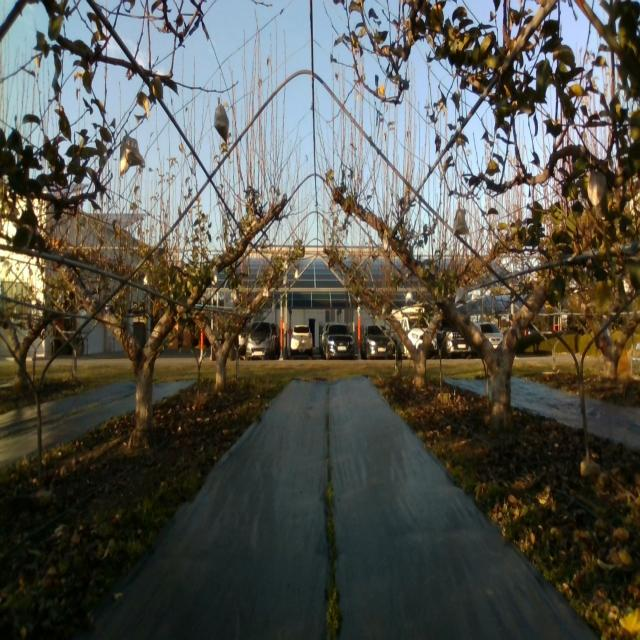pearbags: (588, 167, 608, 220), (120, 136, 144, 174), (214, 105, 230, 144), (453, 209, 469, 237), (454, 286, 468, 310)
